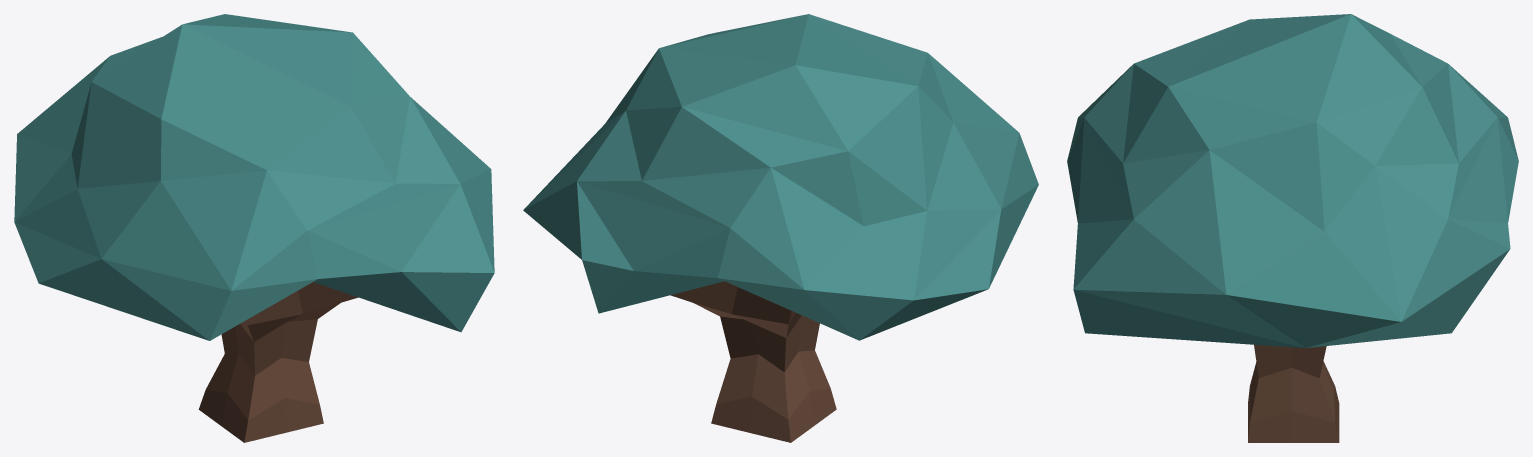
File: Tree_34_Blue.fbx
The picture shows the model from 3 angles, left to right: view 1: azimuth 30°, elevation 25°; view 2: azimuth 150°, elevation 25°; view 3: azimuth 270°, elevation 25°; orthographic projection.
Parts seen in each view (by area): view 1: Tree_34_Blue_Part_1, Tree_34_Blue_Part_2; view 2: Tree_34_Blue_Part_1, Tree_34_Blue_Part_2; view 3: Tree_34_Blue_Part_1, Tree_34_Blue_Part_2.
Part boxes in pixels (left/top/right/bottom): Tree_34_Blue_Part_1: left=14, top=14, right=494, bottom=340; Tree_34_Blue_Part_2: left=198, top=282, right=358, bottom=442; Tree_34_Blue_Part_1: left=523, top=14, right=1038, bottom=340; Tree_34_Blue_Part_2: left=670, top=281, right=836, bottom=442; Tree_34_Blue_Part_1: left=1067, top=14, right=1518, bottom=348; Tree_34_Blue_Part_2: left=1248, top=344, right=1339, bottom=442.
Size of the model in its own units: 804 by 710 by 755.
